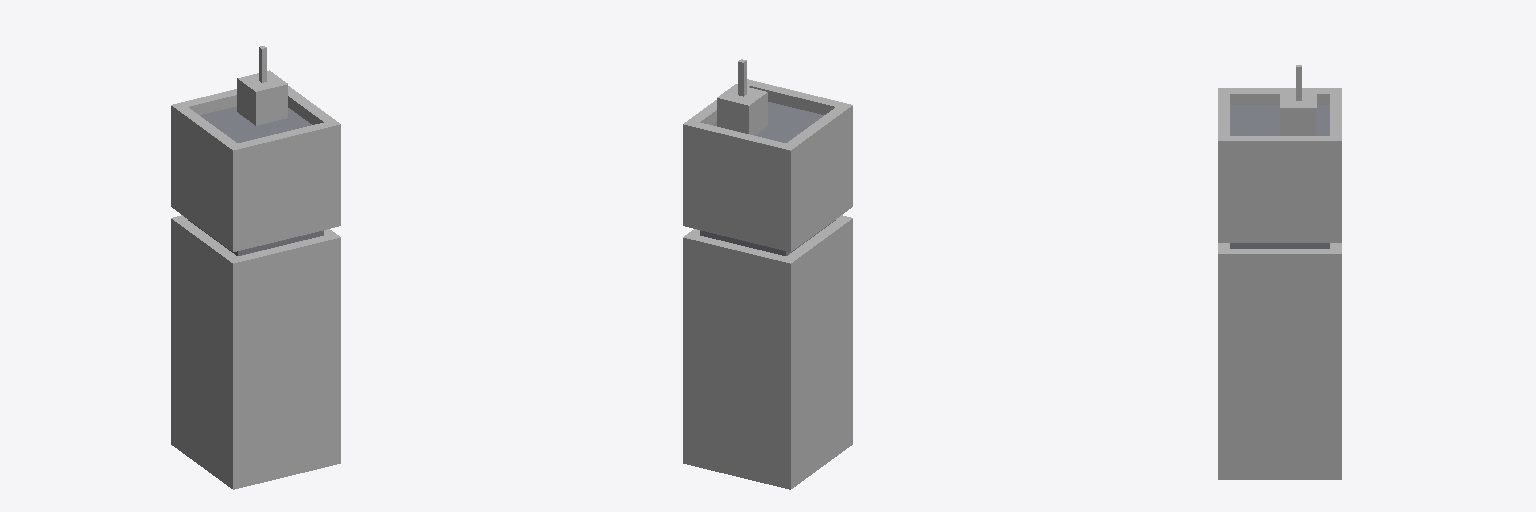
File: low_buildingI.obj
The picture shows the model from 3 angles: view 1: azimuth 30°, elevation 25°; view 2: azimuth 150°, elevation 25°; view 3: azimuth 270°, elevation 25°; orthographic projection.
Parts seen in each view (by area): view 1: low_buildingI; view 2: low_buildingI; view 3: low_buildingI.
Part boxes in pixels (bbox=[...]): low_buildingI: bbox=[171, 46, 340, 489]; low_buildingI: bbox=[683, 59, 852, 489]; low_buildingI: bbox=[1218, 65, 1341, 479].
Bounding box in the file's own units: 0.6962 × 2.44 × 0.6962.